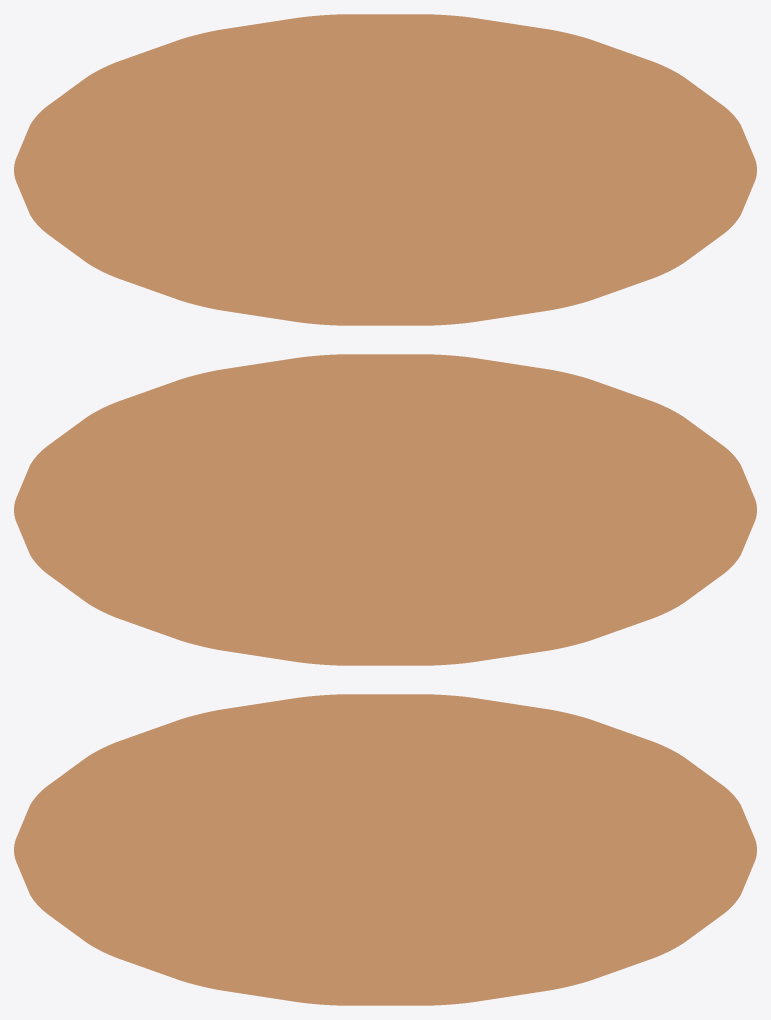
The model's file is Floor.fbx.
3 renders of one model, top to bottom at view 1: azimuth 30°, elevation 25°; view 2: azimuth 150°, elevation 25°; view 3: azimuth 270°, elevation 25°, orthographic.
Visible parts, largest first — view 1: Floor; view 2: Floor; view 3: Floor.
Boxes of the visible parts, left/top/right/bottom form: Floor: left=14, top=14, right=756, bottom=325; Floor: left=14, top=354, right=756, bottom=665; Floor: left=14, top=694, right=756, bottom=1005.
Size of the model in its own units: 6894 by 0.00198 by 6950.
